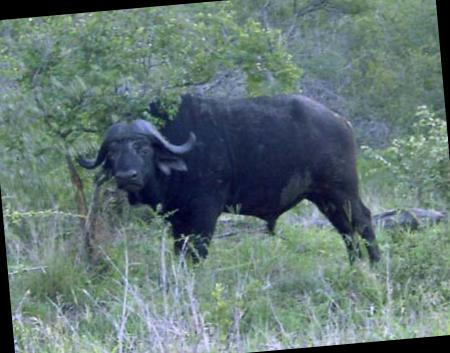Buffalo: (41, 46, 407, 352)
